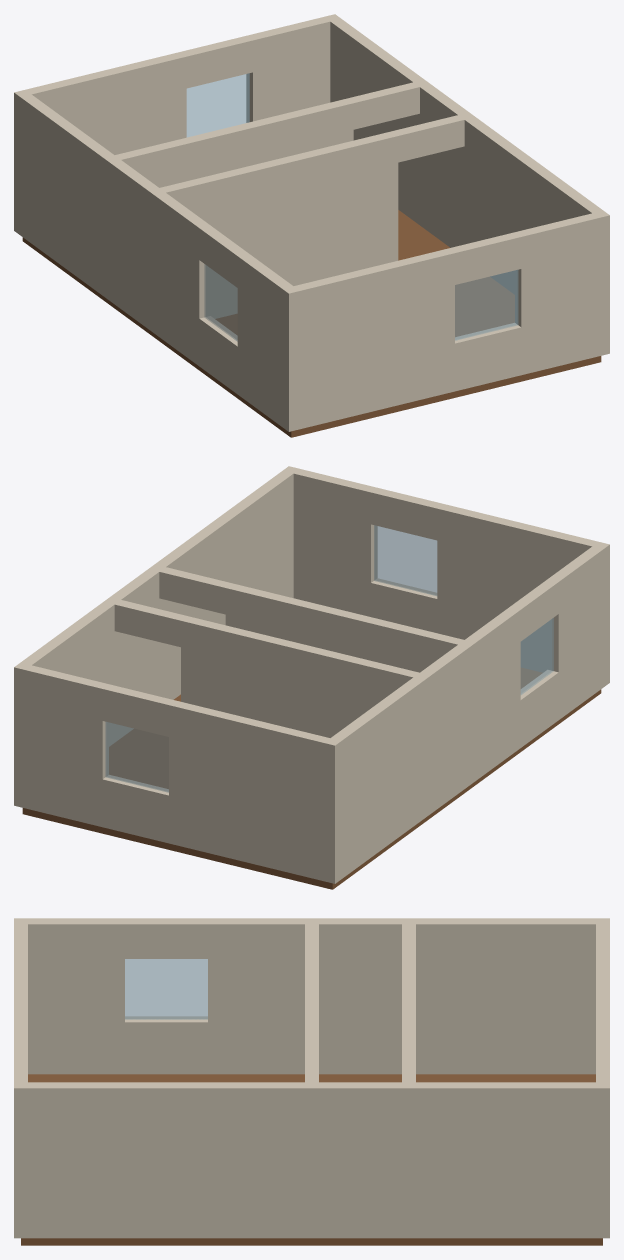
The model's file is buhardillas.glb.
The picture shows the model from 3 angles, top to bottom: view 1: azimuth 30°, elevation 25°; view 2: azimuth 150°, elevation 25°; view 3: azimuth 270°, elevation 25°; orthographic projection. The views are drawn at different scales.
Parts seen in each view (by area): view 1: buhardillas-muros, buhardillas-vanos, buhardillas-vidrios, buhardillas-suelos; view 2: buhardillas-muros, buhardillas-vanos, buhardillas-vidrios, buhardillas-suelos; view 3: buhardillas-muros, buhardillas-vanos, buhardillas-suelos, buhardillas-vidrios.
Part boxes in pixels (x1,y1,x2,y2): buhardillas-muros: (14,14,609,431); buhardillas-vanos: (171,35,532,398); buhardillas-vidrios: (186,73,518,341); buhardillas-suelos: (22,210,601,437); buhardillas-muros: (14,466,609,883); buhardillas-vanos: (91,487,565,845); buhardillas-vidrios: (105,525,553,792); buhardillas-suelos: (22,667,601,889); buhardillas-muros: (14,918,609,1238); buhardillas-vanos: (14,918,609,1116); buhardillas-suelos: (21,1074,602,1245); buhardillas-vidrios: (125,959,207,1019).
Bounding box in the file's own units: 6.32 × 2.78 × 9.36.
